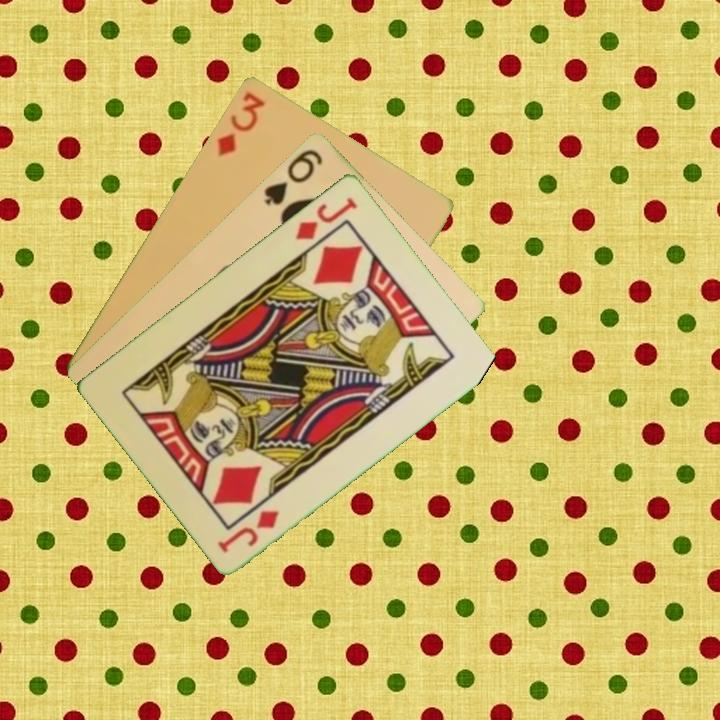3d: (213, 88, 268, 159)
6s: (260, 145, 326, 208)
Jd: (292, 192, 361, 243), (214, 506, 282, 555)
